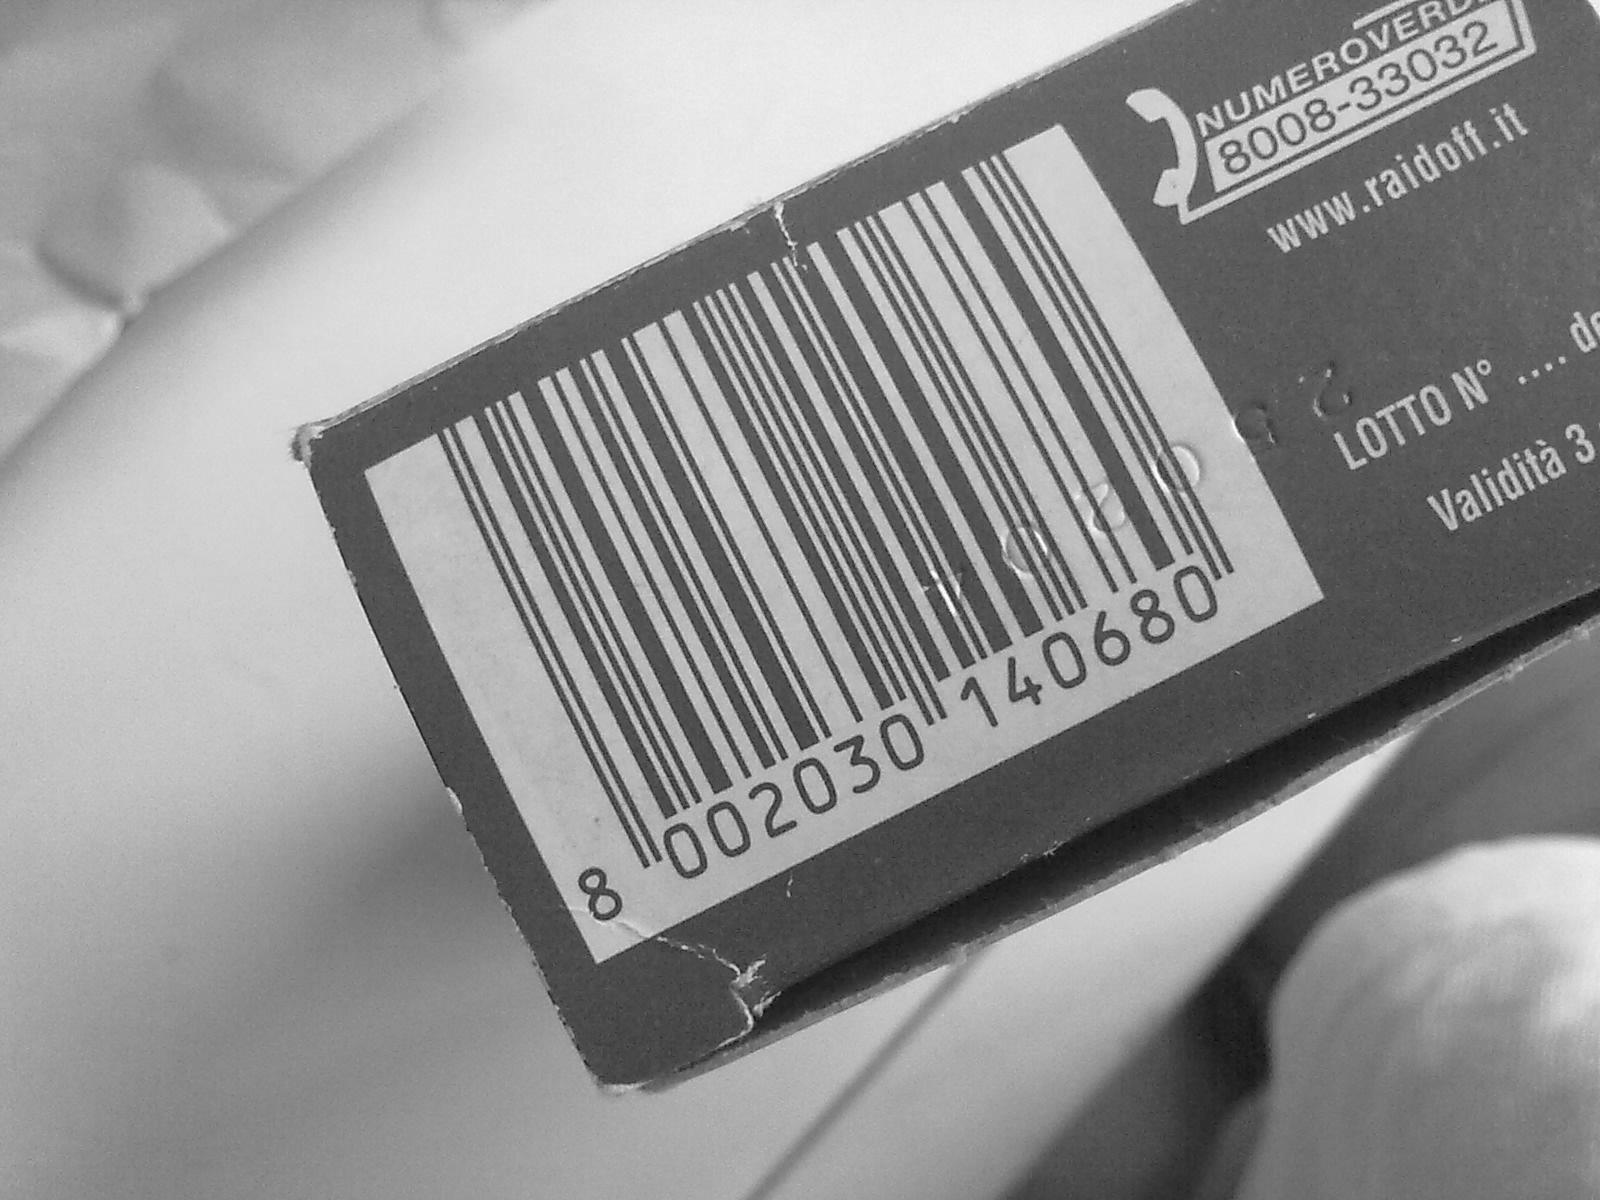Barcode: (396, 124, 1267, 881)
